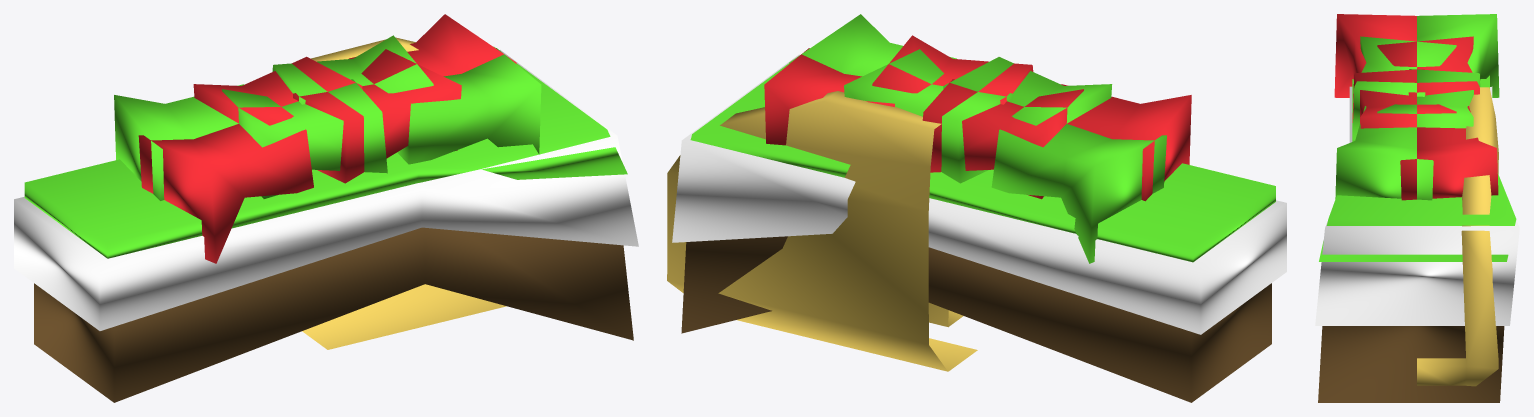
Rendered from taco.glb.
The picture shows the model from 3 angles, left to right: view 1: azimuth 30°, elevation 25°; view 2: azimuth 150°, elevation 25°; view 3: azimuth 270°, elevation 25°; orthographic projection. The views are drawn at different scales.
Visible parts, largest first — view 1: Cubo.001, Cubo.002, Cubo.005, Cubo.003, Cubo.004, Cubo; view 2: Cubo, Cubo.002, Cubo.001, Cubo.005, Cubo.003, Cubo.004; view 3: Cubo.005, Cubo.002, Cubo.001, Cubo.004, Cubo, Cubo.003.
Boxes of the visible parts, x1,y1,x2,y2 form: Cubo.001: (34,227,633,402); Cubo.002: (14,50,638,330); Cubo.005: (114,14,541,263); Cubo.003: (24,46,627,258); Cubo.004: (193,35,461,198); Cubo: (302,37,506,349); Cubo: (667,91,977,371); Cubo.002: (672,54,1286,334); Cubo.001: (681,236,1271,402); Cubo.005: (764,14,1191,263); Cubo.003: (690,63,1275,262); Cubo.004: (844,35,1112,199); Cubo.005: (1334,14,1499,200); Cubo.002: (1315,86,1519,325); Cubo.001: (1318,326,1504,402); Cubo.004: (1352,36,1480,139); Cubo: (1417,87,1498,386); Cubo.003: (1319,75,1516,261).
Bounding box in the file's own units: 7.22 × 3.52 × 2.89.
Materials: 1 (1 with a texture image).
